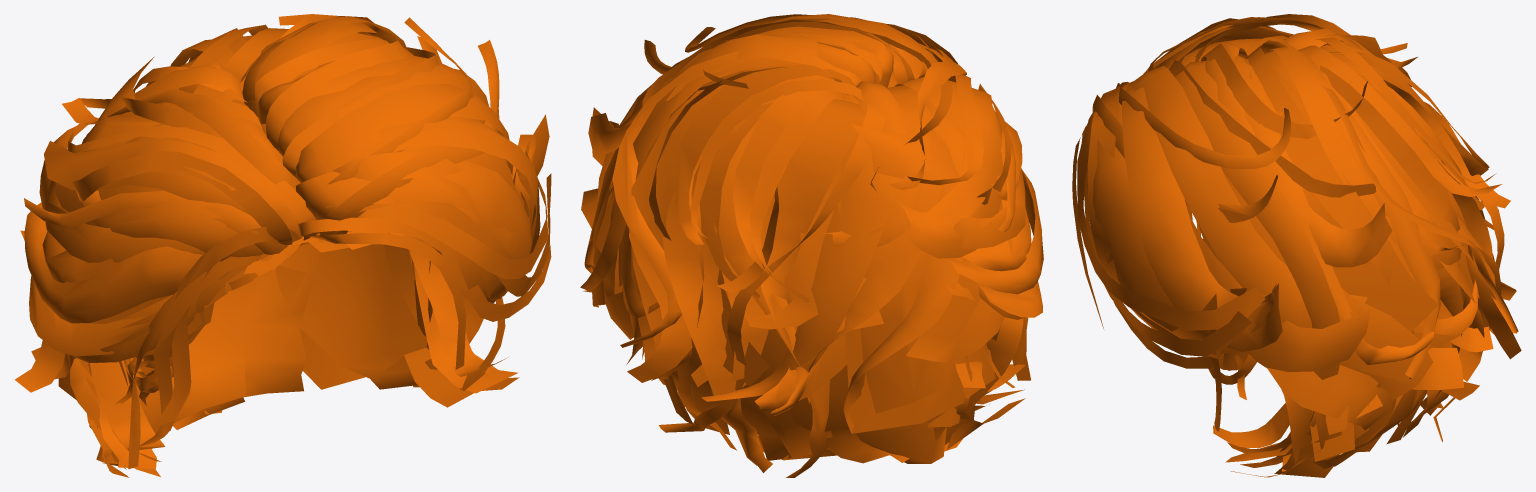
The model's file is Costume03_weight_Hair.fbx.
3 renders of one model, left to right at view 1: azimuth 30°, elevation 25°; view 2: azimuth 150°, elevation 25°; view 3: azimuth 270°, elevation 25°, orthographic. The views are drawn at different scales.
Parts seen in each view (by area): view 1: hair5; view 2: hair5; view 3: hair5.
Part boxes in pixels (left/top/right/bottom): hair5: left=15, top=14, right=551, bottom=477; hair5: left=580, top=14, right=1043, bottom=477; hair5: left=1072, top=14, right=1521, bottom=477.
Bounding box in the file's own units: 722 × 572 × 609.
